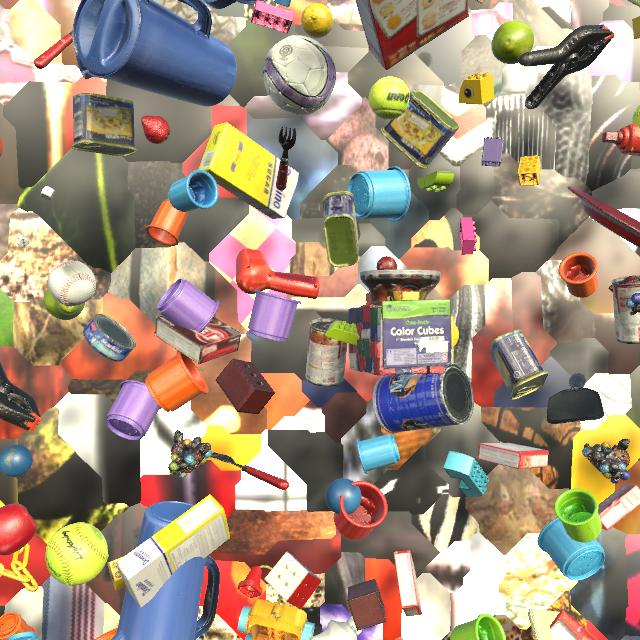ycb_002_master_chef_can: (372, 363, 474, 433)
ycb_003_cracker_box: (355, 0, 469, 70), (550, 609, 597, 640)
ycb_004_sugar_box: (117, 494, 230, 608), (199, 122, 299, 219)
ycb_005_tomato_soup_can: (306, 318, 347, 387), (611, 275, 640, 344)
ycb_007_tuna_fish_can: (83, 314, 136, 362)
ycb_008_pudding_box: (154, 316, 241, 364)
ycb_009_gelatin_box: (598, 484, 640, 530), (477, 443, 549, 469), (394, 550, 422, 616)
ycb_010_potted_meat_can: (381, 89, 459, 169), (72, 93, 137, 156), (490, 330, 548, 400), (322, 191, 360, 267)
ycb_012_strawberry: (141, 115, 170, 144)
ycb_013_apple: (0, 504, 37, 556)
ycb_014_lemon: (301, 3, 334, 38), (451, 324, 459, 349)
ycb_016_pear: (491, 21, 534, 64), (43, 288, 85, 320)
ycb_017_orange: (0, 137, 3, 157)
